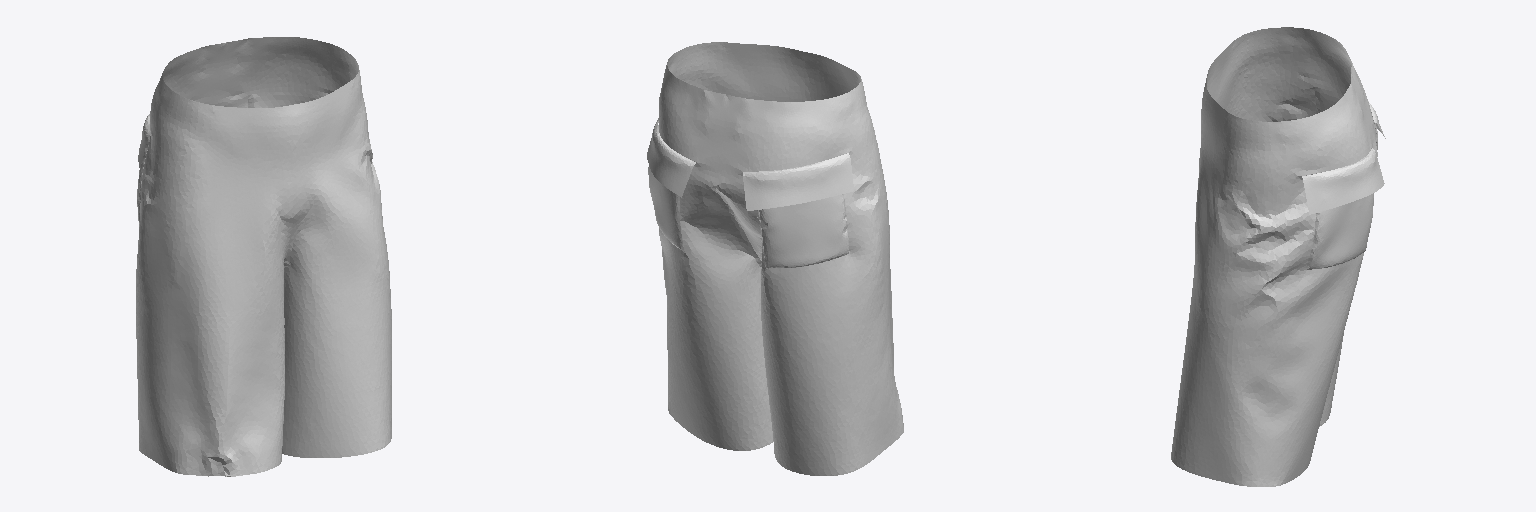
3 views of the same model, side by side, from view 1: azimuth 30°, elevation 25°; view 2: azimuth 150°, elevation 25°; view 3: azimuth 270°, elevation 25° (orthographic).
Bounding box in the file's own units: 39.79 × 63.28 × 33.19.
1 materials, 1 textured.